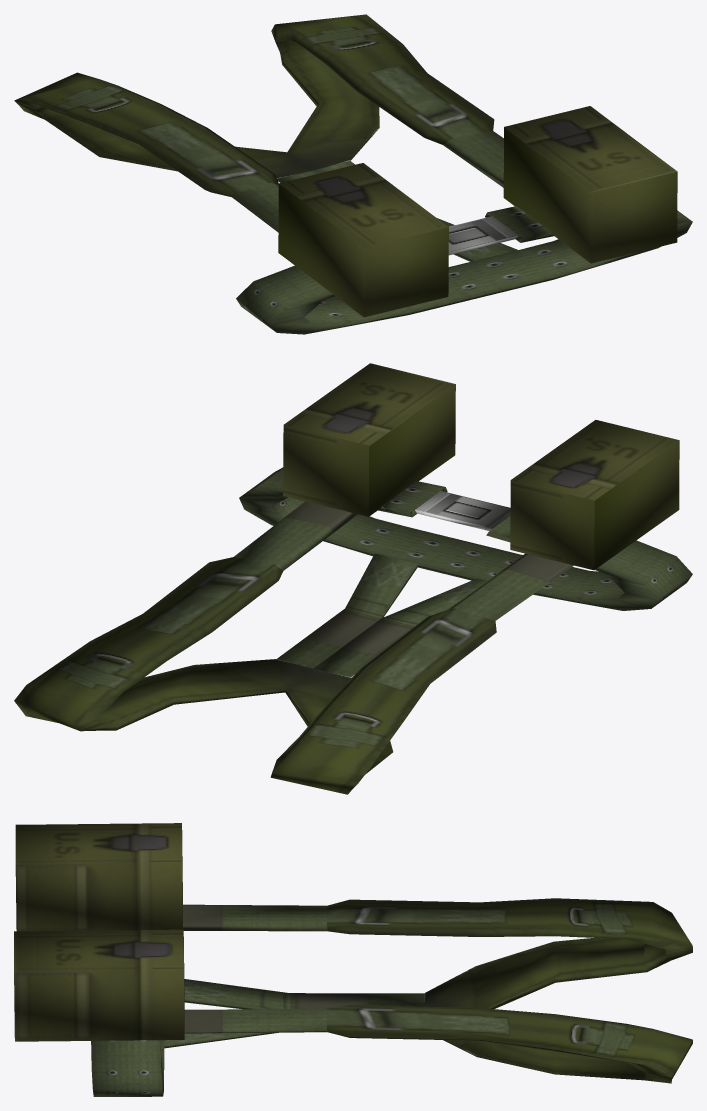
Rendered from MilitaryWebbing_WorldItem.fbx.
3 renders of one model, top to bottom at view 1: azimuth 30°, elevation 25°; view 2: azimuth 150°, elevation 25°; view 3: azimuth 270°, elevation 25°, orthographic. The views are drawn at different scales.
Parts seen in each view (by area): view 1: Circle.001; view 2: Circle.001; view 3: Circle.001.
Boxes of the visible parts, x1=… form: Circle.001: x1=14, y1=14, x2=692, y2=334; Circle.001: x1=14, y1=363, x2=692, y2=794; Circle.001: x1=14, y1=823, x2=692, y2=1096.
Size of the model in its own units: 0.6236 by 0.1723 by 0.8948.
